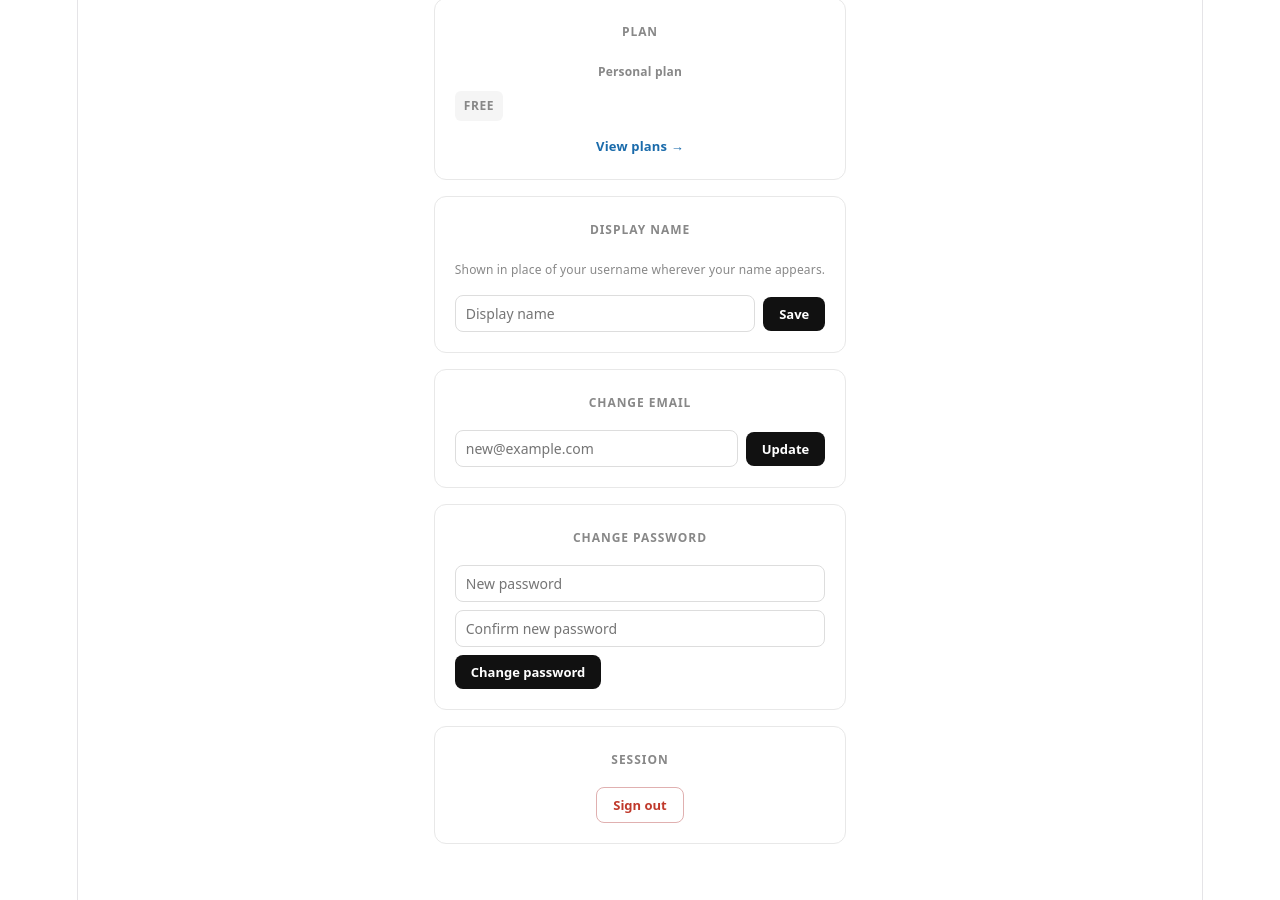
Test: Profile — change password › rejects passwords shorter than 6 characters
The image size is (1280, 900).
(page scrolled)
Type "abc" into the password field with placeholder "New password" at (640, 584), box [455,565,825,602]
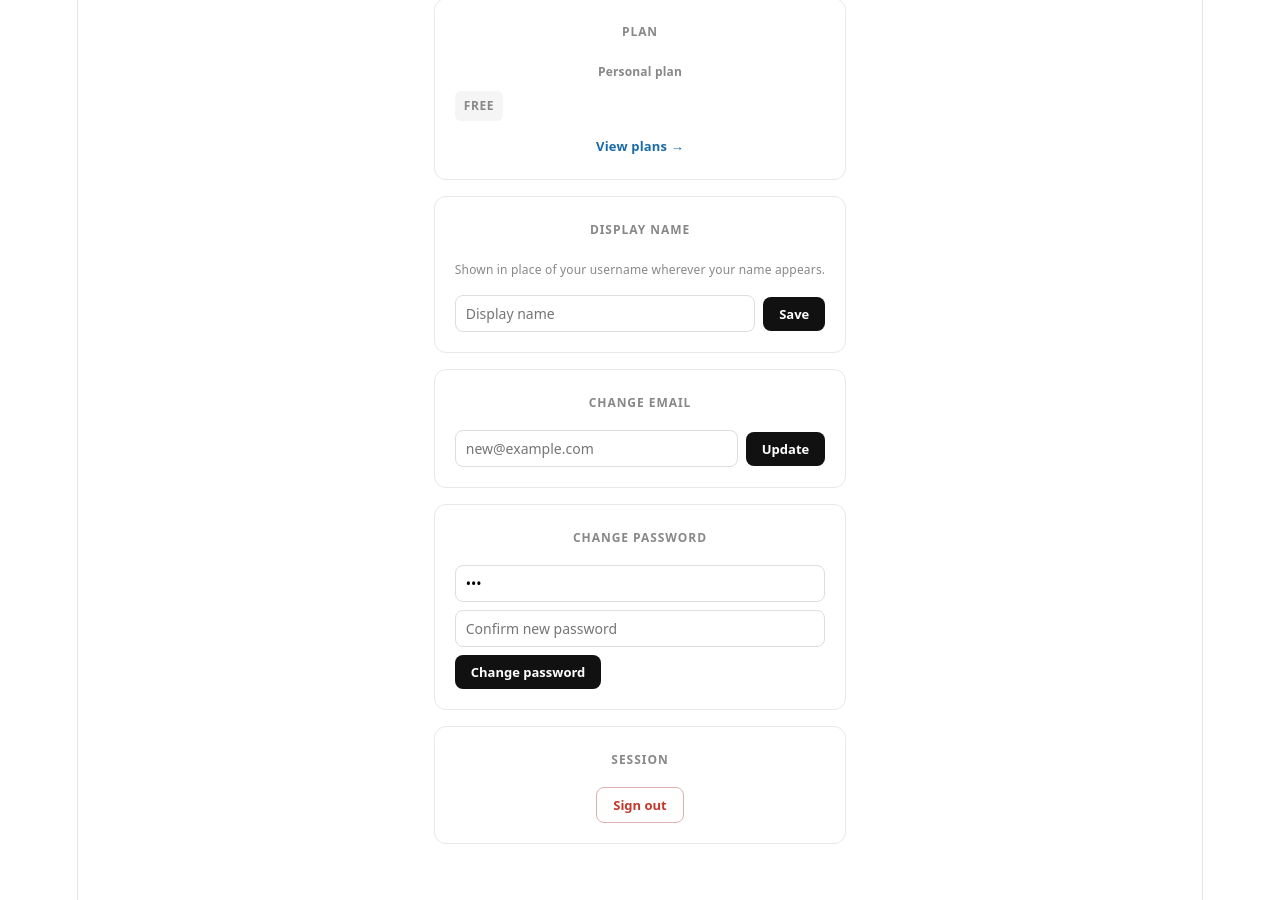
Type "abc" into the password field with placeholder "Confirm new password" at (640, 629), box [455,610,825,647]
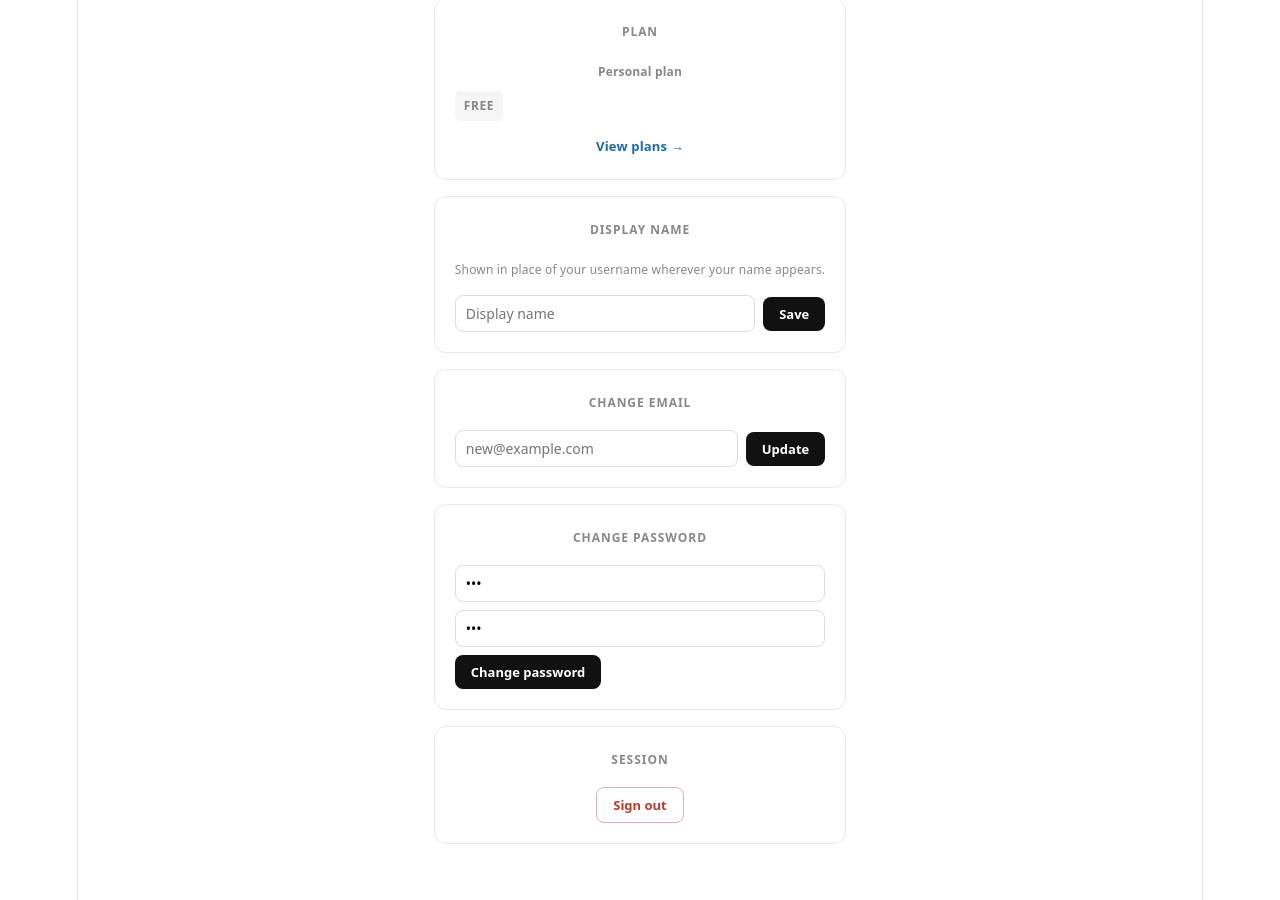
Click the button "Change password" at (528, 672), box [455,655,601,689]
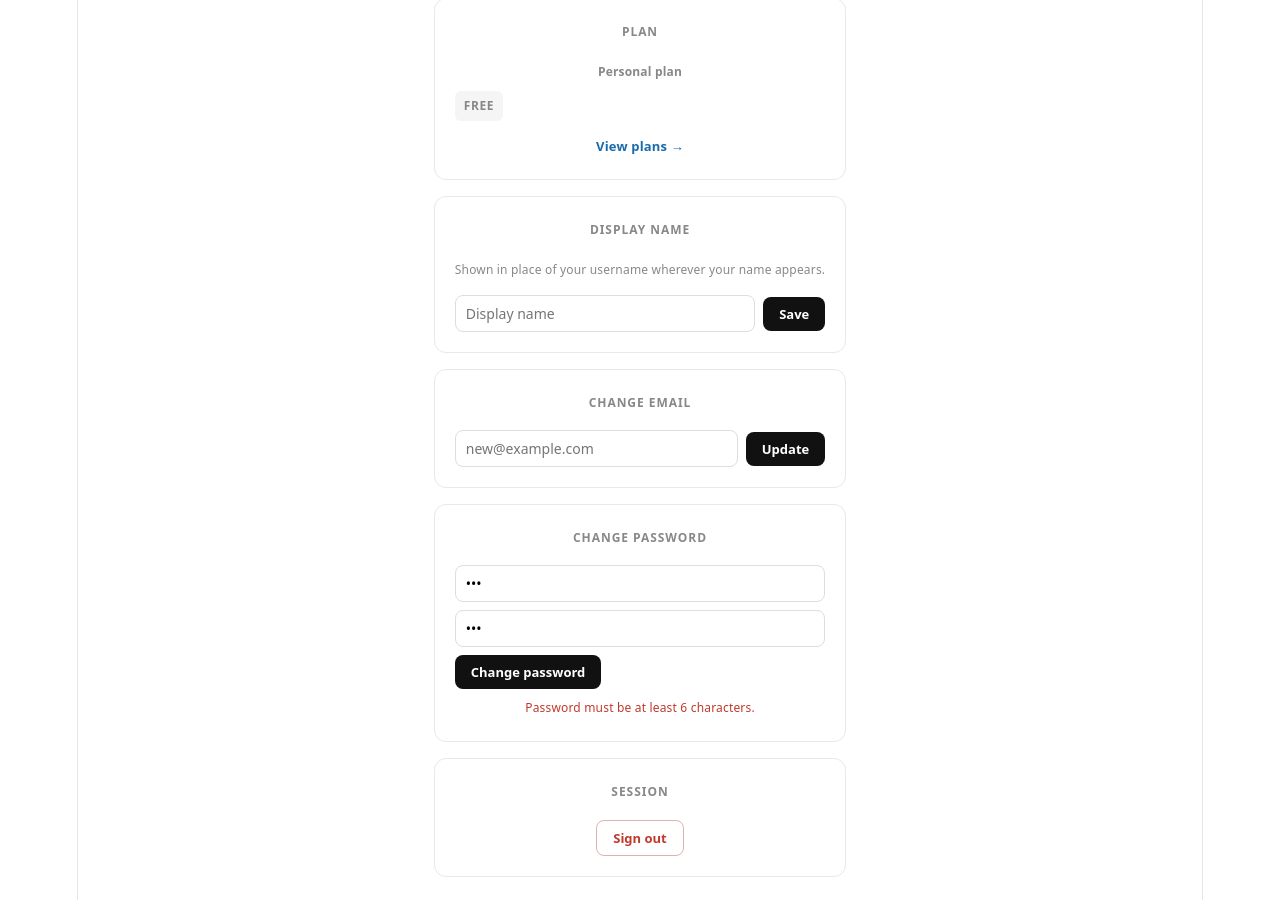
expect the text "Password must be at least 6 characters." is shown: met, box [525,699,755,716]
